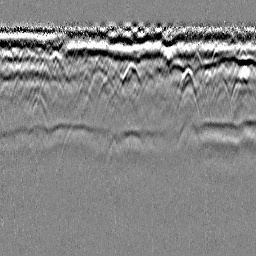cavity: (117, 60, 143, 91)
